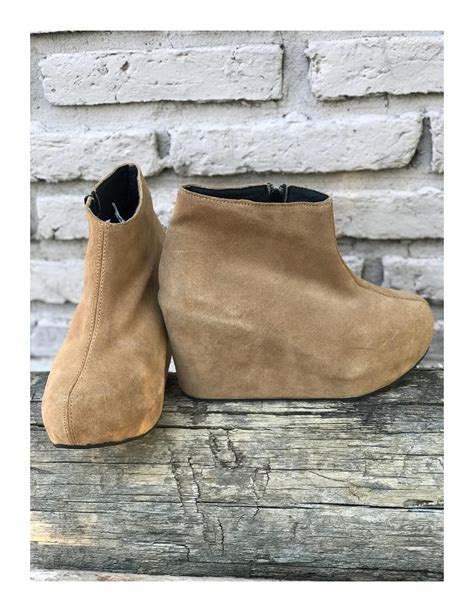gamuza: (39, 164, 435, 446)
